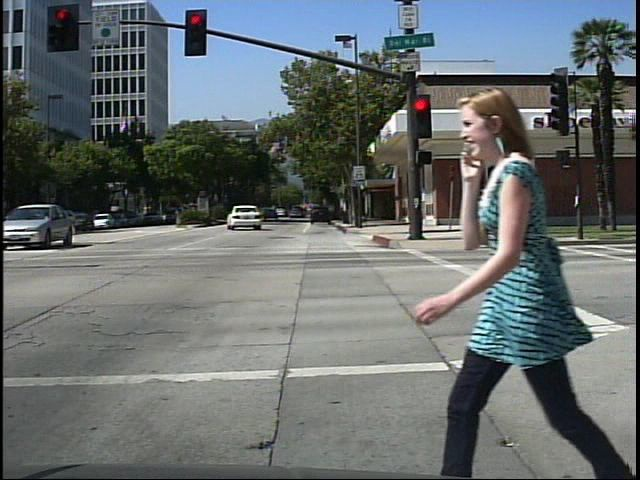person: (430, 79, 629, 480)
